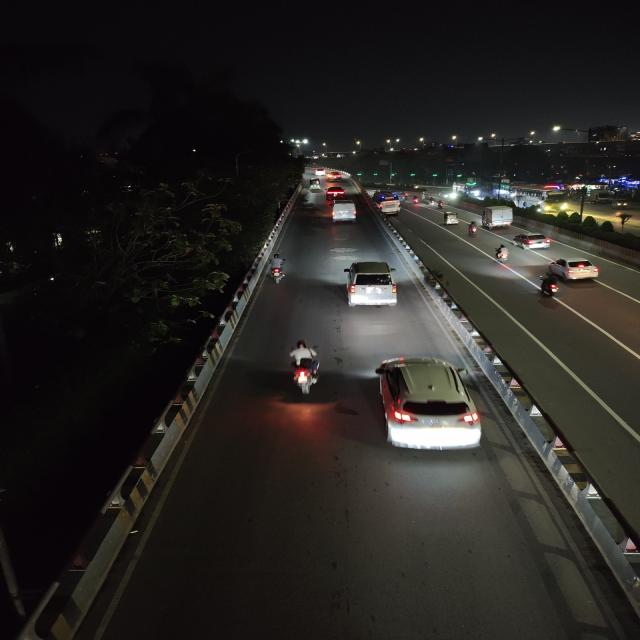bus: (514, 186, 569, 212), (329, 198, 358, 224), (374, 191, 404, 215)
car: (371, 352, 486, 458), (339, 259, 403, 311), (546, 255, 602, 283), (512, 231, 555, 251), (324, 186, 346, 198), (326, 172, 344, 182)
cng: (442, 211, 459, 227), (308, 179, 323, 191)
motorcycle: (282, 338, 324, 399), (266, 252, 291, 286), (535, 273, 564, 302), (492, 243, 512, 266), (466, 220, 480, 238)
truck: (481, 204, 514, 230), (328, 198, 358, 224), (591, 190, 613, 204)
